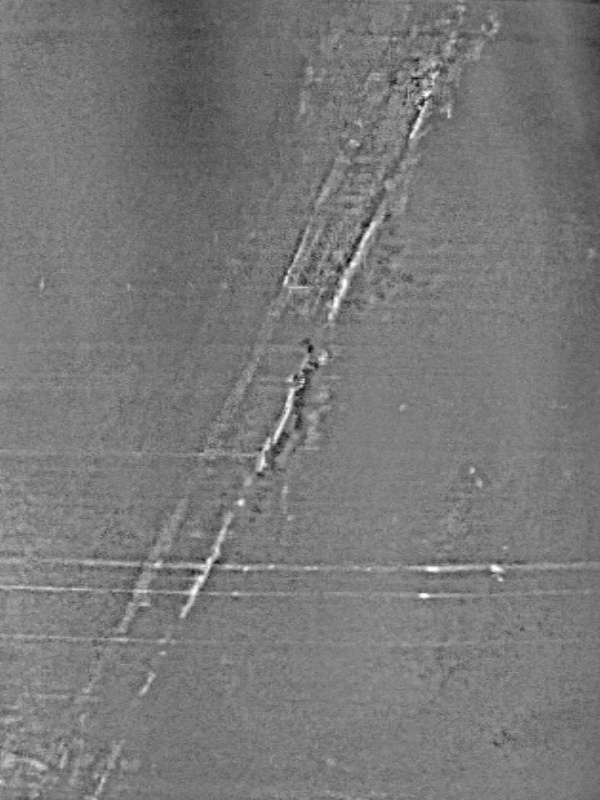splice_vulcanized: (33, 1, 505, 800)
